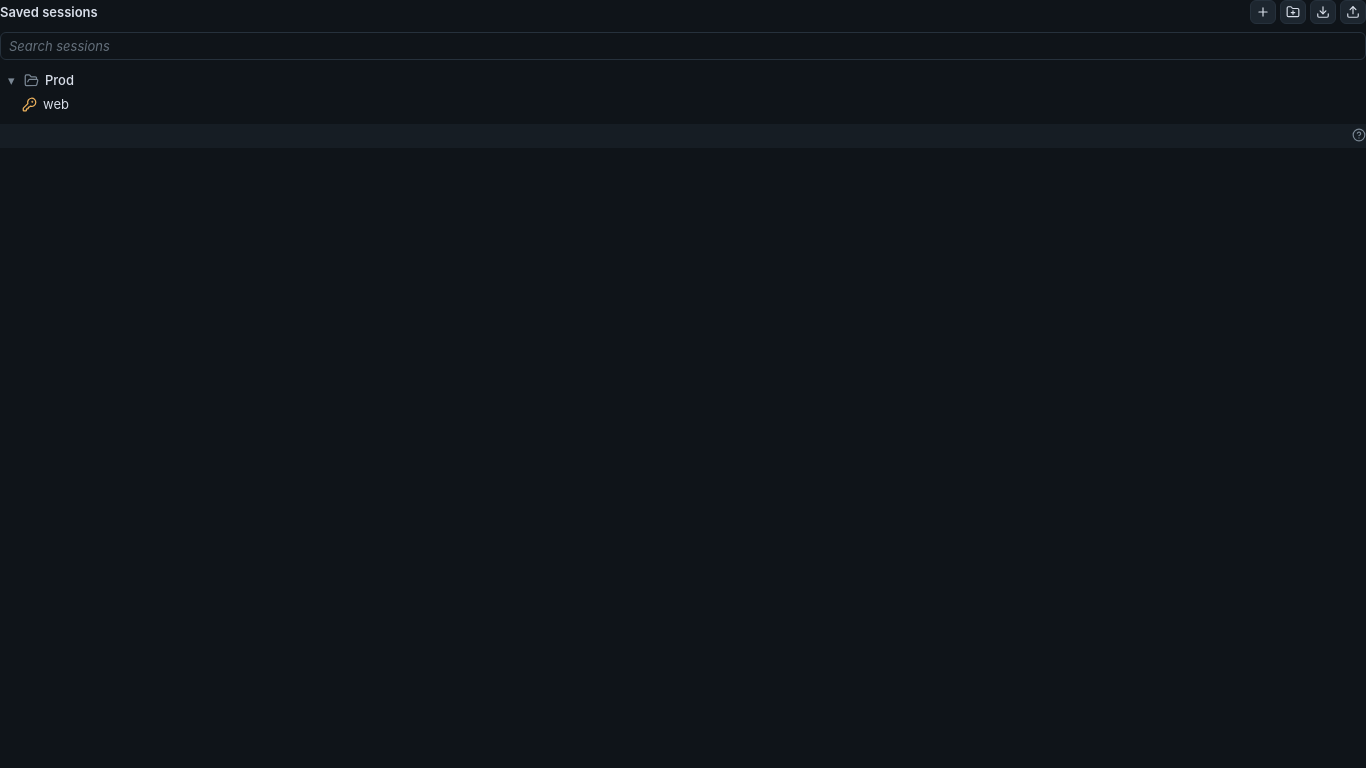
SessionsPanel › reads the file picked in the native dialog through the backend
Click the button named "Import sessions" at (1323, 12), box [1310, 0, 1336, 24]
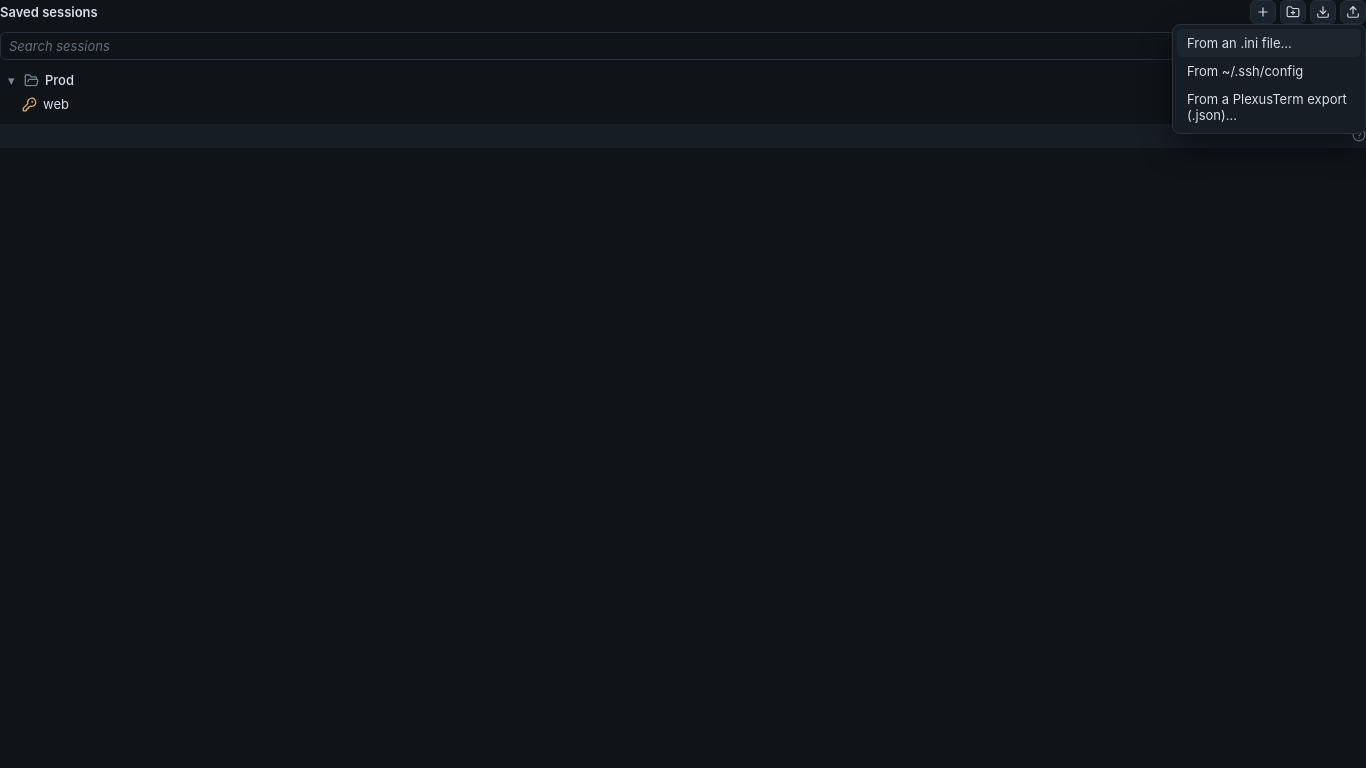
Click the menu item "From an .ini file…" at (1269, 43), box [1177, 29, 1361, 57]
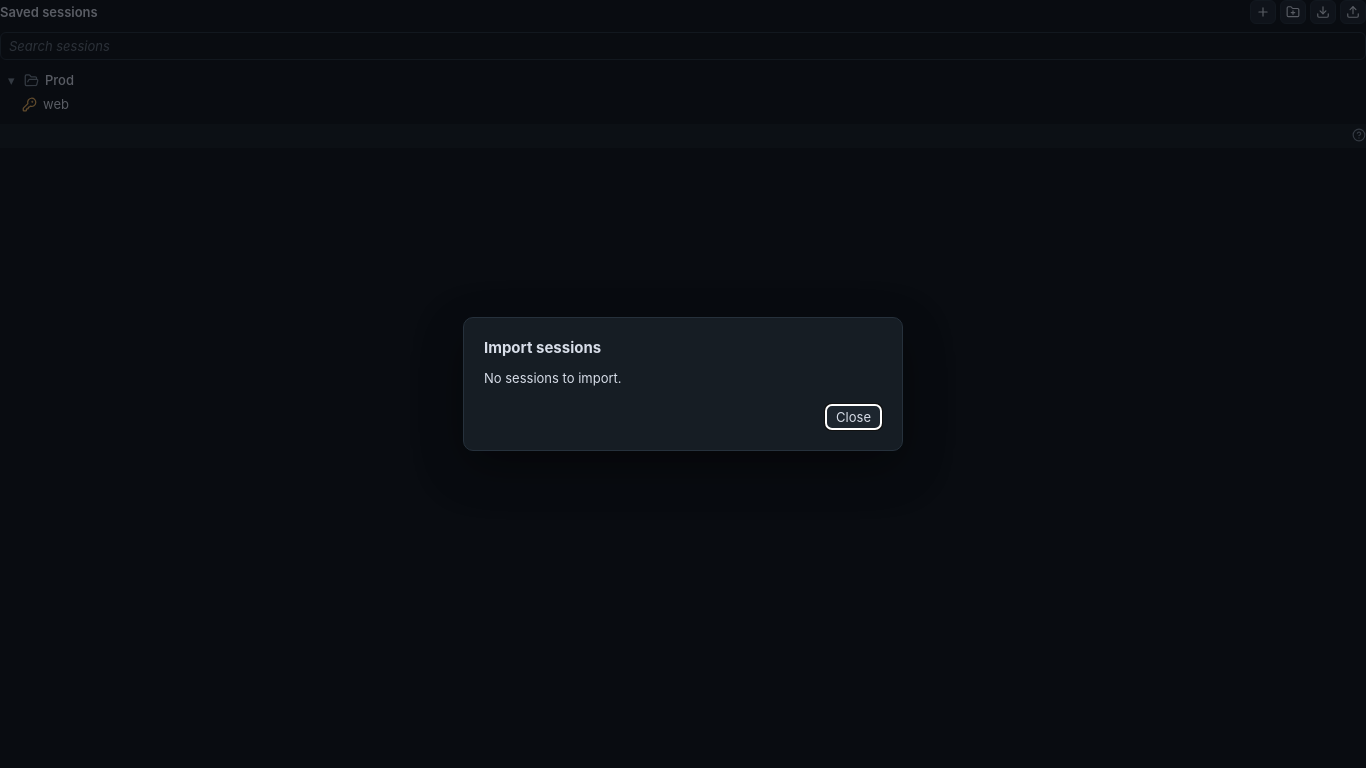
Now the text "No sessions to import." is shown, box [484, 370, 622, 386]
